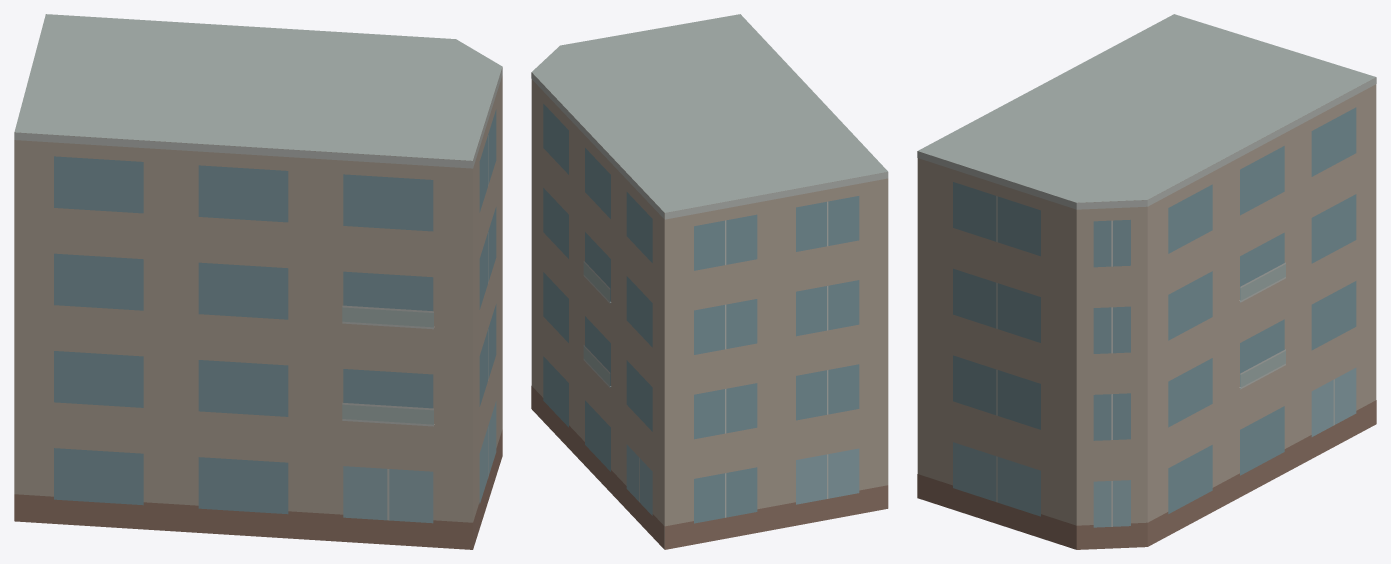
The model's file is survey-upis-32830458.glb.
The picture shows the model from 3 angles, left to right: view 1: azimuth 30°, elevation 25°; view 2: azimuth 150°, elevation 25°; view 3: azimuth 270°, elevation 25°; orthographic projection. The views are drawn at different scales.
Parts seen in each view (by area): view 1: survey-upis-32830458.tmp; view 2: survey-upis-32830458.tmp; view 3: survey-upis-32830458.tmp.
Part boxes in pixels (x1,y1,x2,y2): survey-upis-32830458.tmp: (14, 14, 502, 549); survey-upis-32830458.tmp: (531, 14, 888, 549); survey-upis-32830458.tmp: (917, 14, 1376, 549).
Bounding box in the file's own units: 14.38 × 12.32 × 14.78.
